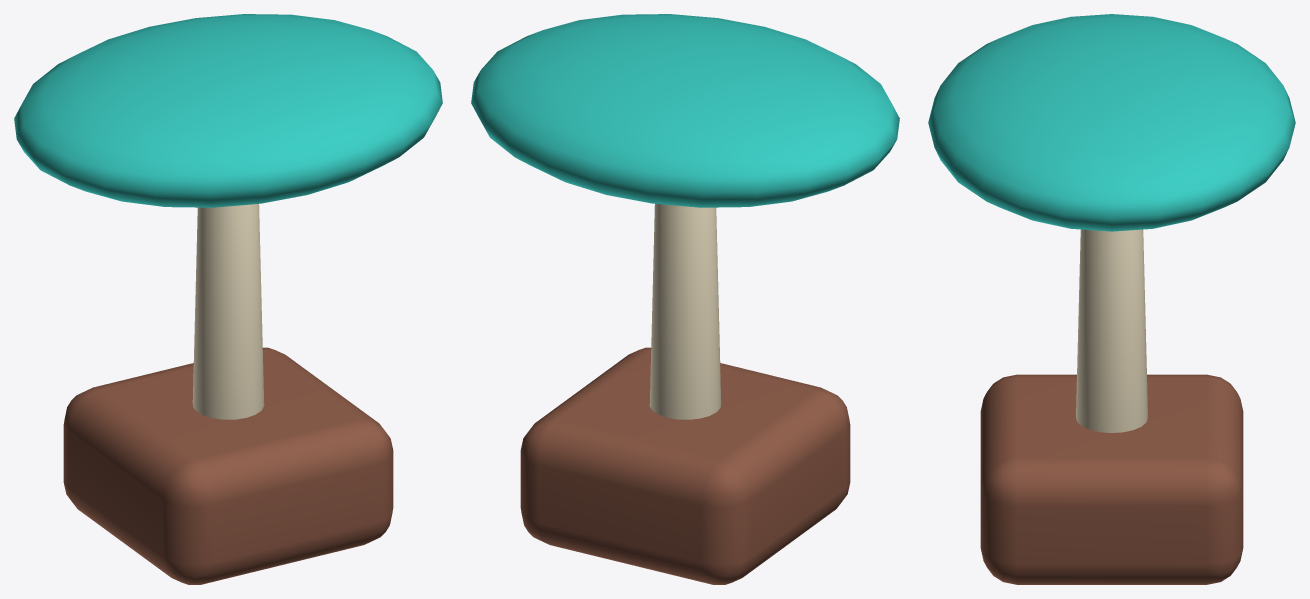
Rendered from radar.glb.
The picture shows the model from 3 angles, left to right: view 1: azimuth 30°, elevation 25°; view 2: azimuth 150°, elevation 25°; view 3: azimuth 270°, elevation 25°; orthographic projection.
Parts seen in each view (by area): view 1: Radar bowl, Radar base, Radar mast; view 2: Radar bowl, Radar base, Radar mast; view 3: Radar bowl, Radar base, Radar mast.
Part boxes in pixels (<box>): Radar bowl: <box>14,14,442,207</box>; Radar base: <box>63,347,393,584</box>; Radar mast: <box>192,204,264,419</box>; Radar bowl: <box>471,14,899,207</box>; Radar base: <box>520,347,850,584</box>; Radar mast: <box>649,204,721,419</box>; Radar bowl: <box>928,14,1295,231</box>; Radar base: <box>980,374,1243,584</box>; Radar mast: <box>1076,229,1147,432</box>.
Size of the model in its own units: 0.86 by 0.99 by 0.7.
